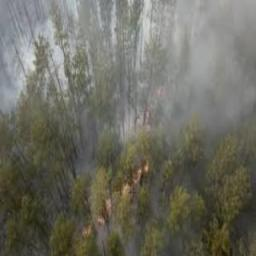Heavy smoke: (1, 0, 256, 137)
Small fire: (97, 161, 152, 226)
